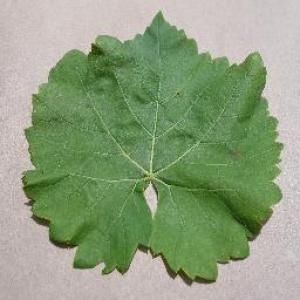Folha: (20, 9, 284, 285)
